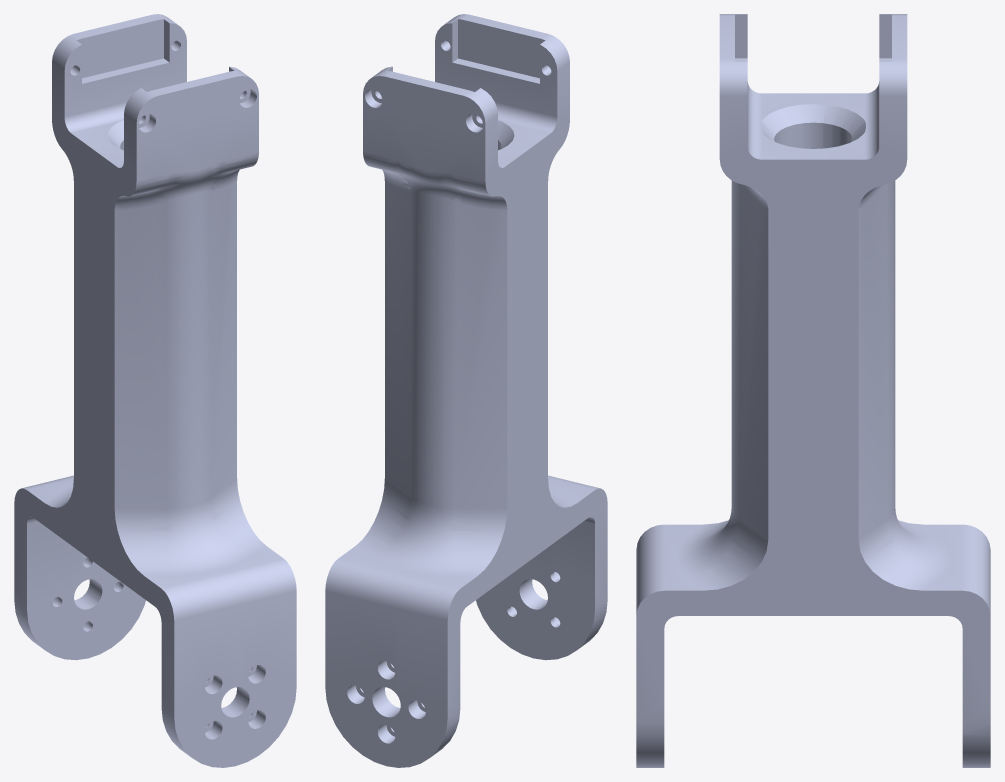
3 views of the same model, side by side, from view 1: azimuth 30°, elevation 25°; view 2: azimuth 150°, elevation 25°; view 3: azimuth 270°, elevation 25° (orthographic). The views are drawn at different scales.
Visible parts, largest first — view 1: node0; view 2: node0; view 3: node0.
Part boxes in pixels (box(x1,y1,x2,y2)): node0: box(14, 14, 296, 767); node0: box(325, 14, 607, 767); node0: box(636, 14, 990, 767).
Size of the model in its own units: 0.028 by 0.1425 by 0.0633.
